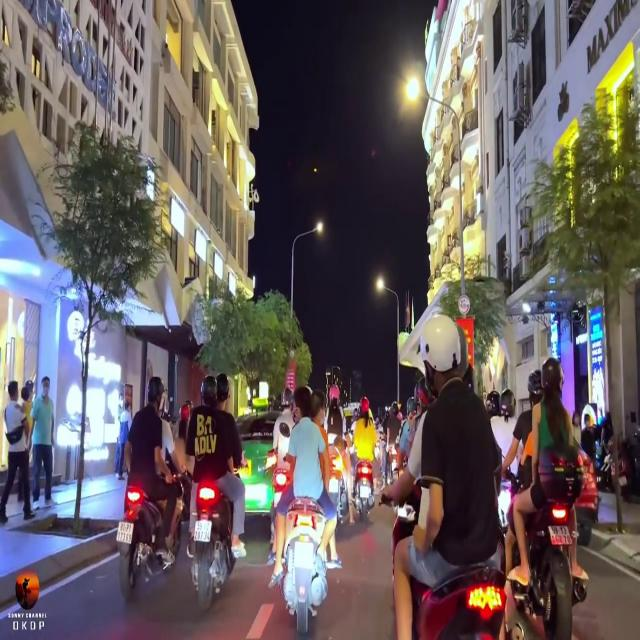bien_trang: (191, 517, 213, 549), (114, 516, 135, 548)
